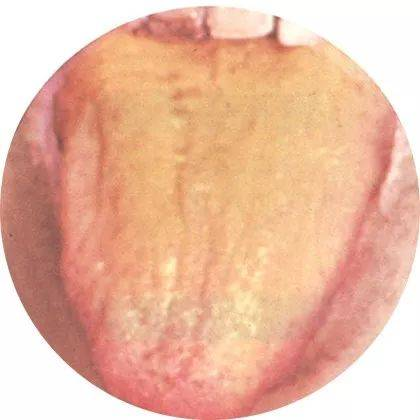huangtaishe: (55, 41, 397, 420)
